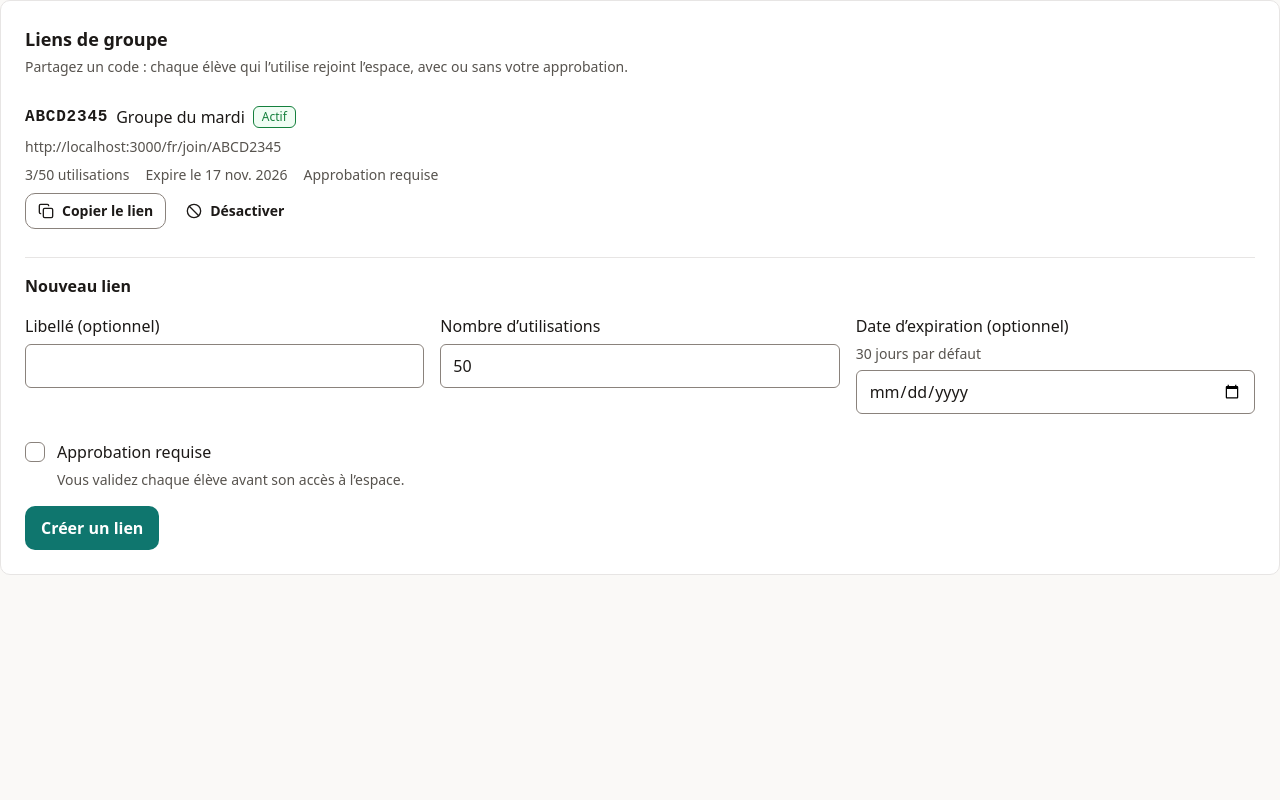
InviteLinkCard › creates a link with the defaults (approval off in a personal workspace)
Expected: the text "ABCD2345" is shown, [25,105,108,129]
Expected: the checkbox named "Approbation requise" is not checked, [25,442,45,462]
Click the button "Créer un lien": (92, 528) [25,506,159,550]
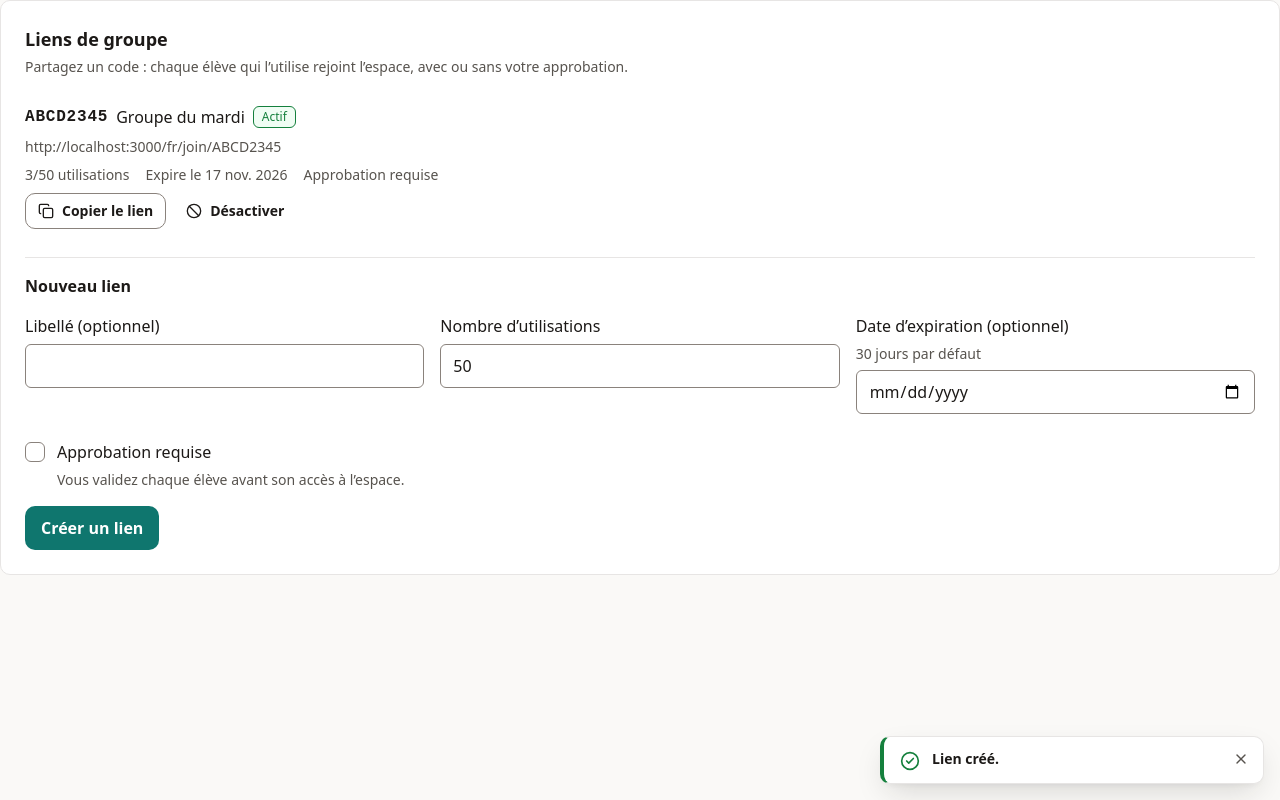
Expected: the text "Lien créé." is shown, [932,749,999,769]
